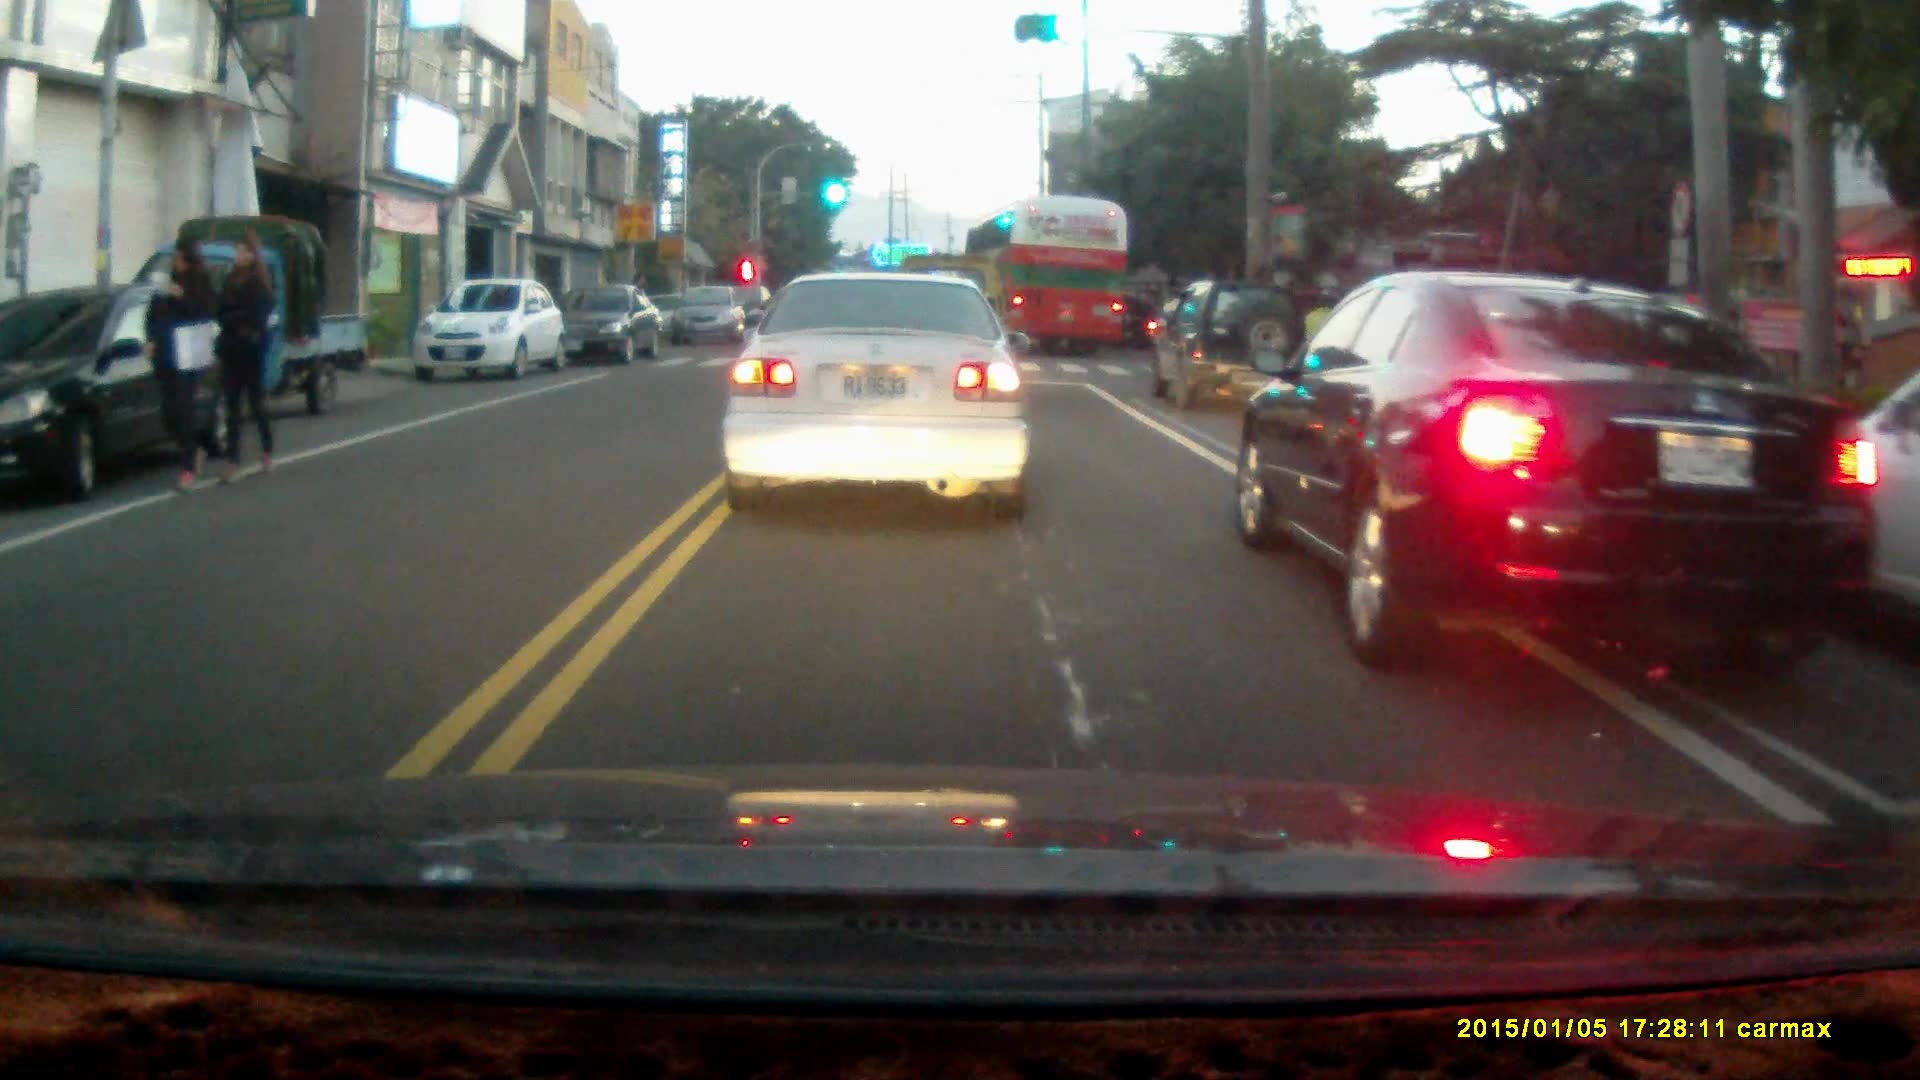pedestrian: (141, 233, 217, 491), (212, 232, 277, 480)
rider: (1117, 291, 1158, 354)
vehicle: (1235, 272, 1877, 662), (720, 266, 1031, 520), (1, 280, 263, 504), (127, 213, 375, 417), (1752, 366, 1920, 622), (963, 198, 1128, 359), (1155, 277, 1308, 411), (414, 279, 567, 383), (554, 279, 667, 369), (669, 286, 752, 349)
